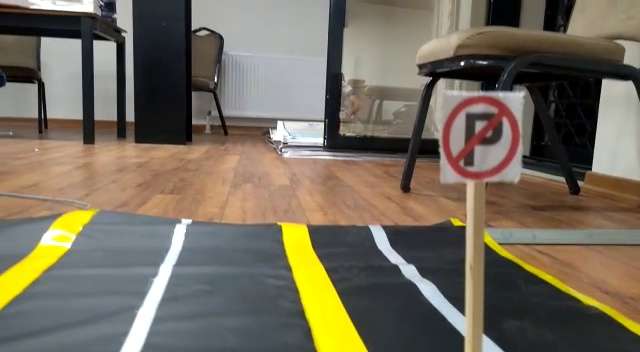park_yapilmaz: (440, 92, 522, 180)
